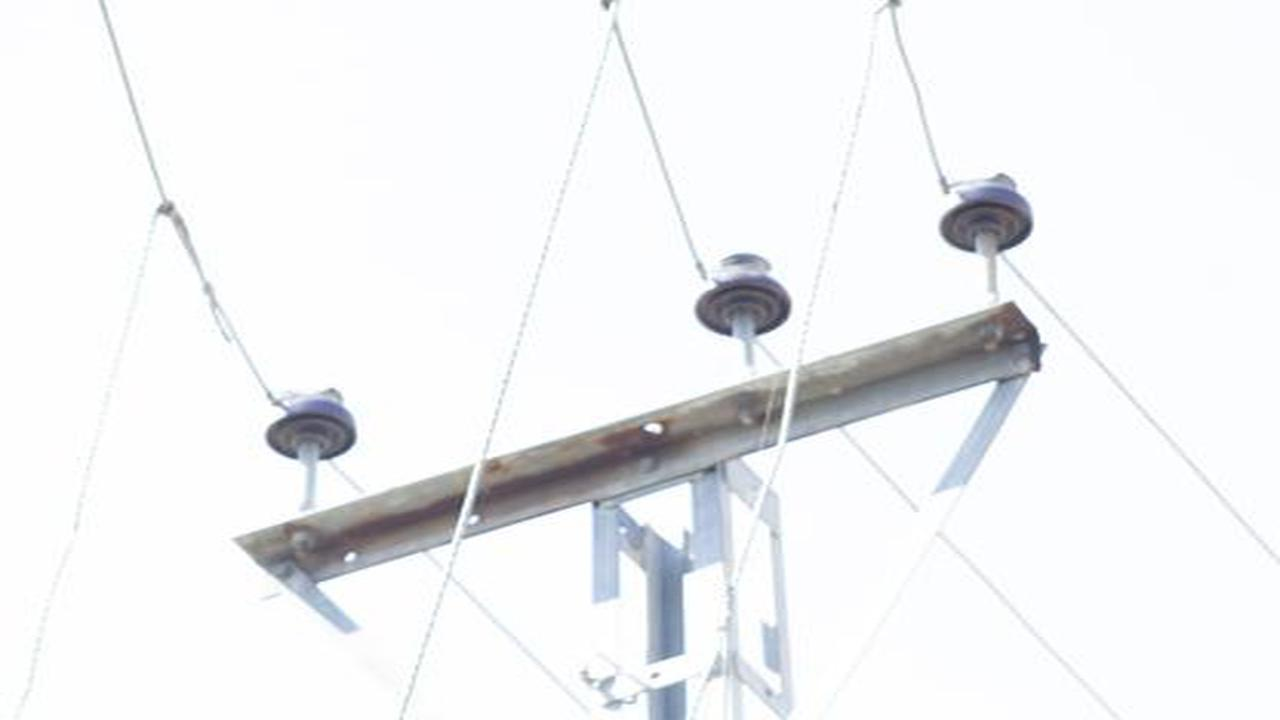insulator_pin: (932, 171, 1043, 261), (688, 249, 794, 339), (261, 383, 361, 466)
